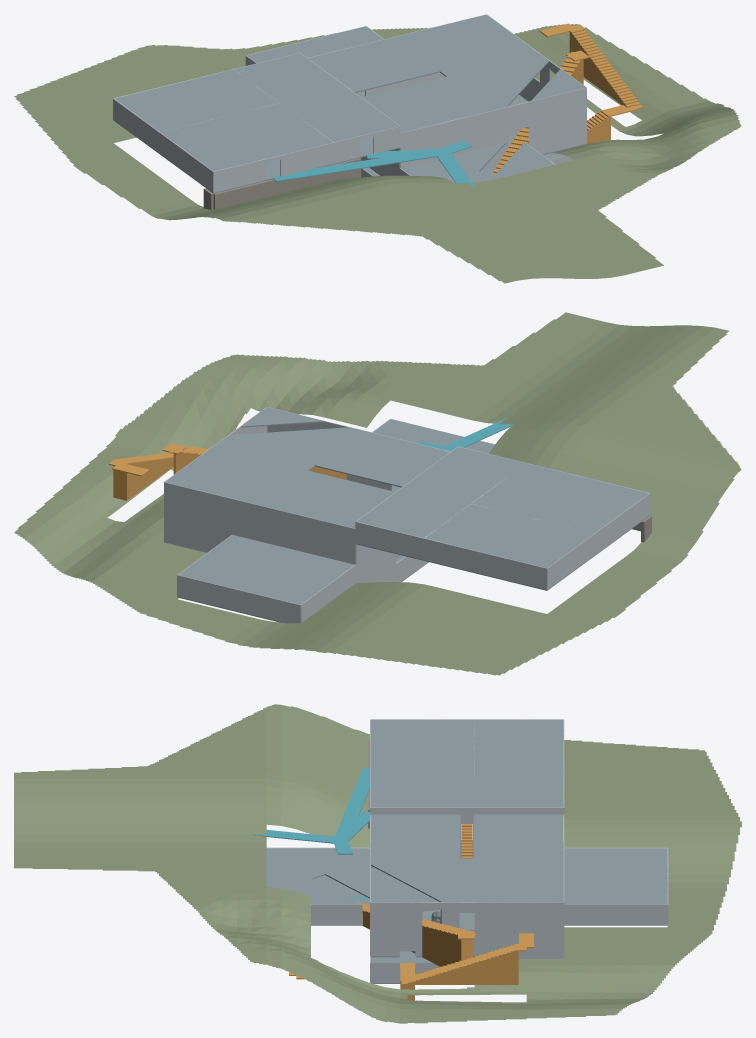
Rendered from supported-arrival.glb.
The picture shows the model from 3 angles, top to bottom: view 1: azimuth 30°, elevation 25°; view 2: azimuth 150°, elevation 25°; view 3: azimuth 270°, elevation 25°; orthographic projection. The views are drawn at different scales.
Visible parts, largest first — view 1: Saved editor occupied-room terrain WLD-09, Ceiling cap west-stair, Ceiling cap control, Opened stair shell Wall turbine S.001, Ceiling cap office, Restored ceiling-cap turbine 0 region0, Ceiling cap turbine.006, Ceiling cap turbine.003, Ceiling cap turbine, Ceiling cap plant, Ceiling cap turbine.004, Flat route shell Bayed shell Wall turbine S (+15 smaller); view 2: Saved editor occupied-room terrain WLD-09, Ceiling cap west-stair, Ceiling cap control, Ceiling cap plant, Flat route shell Wall turbine N.001, Ceiling cap office, Restored ceiling-cap turbine 0 region0, Ceiling cap turbine.006, Wall office N, Wall plant N, Ceiling cap turbine, Ceiling cap turbine.003 (+12 smaller); view 3: Saved editor occupied-room terrain WLD-09, Opened stair shell Wall turbine E, Ceiling cap west-stair, Ceiling cap control, Ceiling cap plant, Ceiling cap office, Restored ceiling-cap turbine 0 region0, Ceiling cap turbine.006, Ceiling cap turbine, Ceiling cap turbine.003, Wall plant E, Ceiling cap turbine.004 (+13 smaller).
Part boxes in pixels (x1,y1,x2,y2): Saved editor occupied-room terrain WLD-09: (14,24,741,283); Ceiling cap west-stair: (234,53,399,142); Ceiling cap control: (160,103,332,171); Opened stair shell Wall turbine S.001: (465,88,586,168); Ceiling cap office: (115,69,278,131); Restored ceiling-cap turbine 0 region0: (409,54,548,119); Ceiling cap turbine.006: (394,14,531,70); Ceiling cap turbine.003: (362,86,454,132); Ceiling cap turbine: (308,46,400,91); Ceiling cap plant: (246,26,382,63); Ceiling cap turbine.004: (355,37,438,79); Flat route shell Bayed shell Wall turbine S: (400,119,455,168); Saved editor occupied-room terrain WLD-09: (14,312,741,675); Ceiling cap west-stair: (356,447,526,537); Ceiling cap control: (472,463,648,533); Ceiling cap plant: (178,535,354,604); Flat route shell Wall turbine N.001: (164,482,288,550); Ceiling cap office: (425,504,593,567); Restored ceiling-cap turbine 0 region0: (221,427,400,475); Ceiling cap turbine.006: (165,448,306,505); Wall office N: (424,538,547,589); Wall plant N: (177,575,300,623); Ceiling cap turbine: (300,481,394,528); Ceiling cap turbine.003: (355,440,449,485); Saved editor occupied-room terrain WLD-09: (14,704,741,1023); Opened stair shell Wall turbine E: (370,902,563,956); Ceiling cap west-stair: (370,776,563,807); Ceiling cap control: (370,719,474,776); Ceiling cap plant: (564,848,667,904); Ceiling cap office: (474,719,563,776); Restored ceiling-cap turbine 0 region0: (370,840,460,902); Ceiling cap turbine.006: (475,858,563,902); Ceiling cap turbine: (475,814,563,840); Ceiling cap turbine.003: (370,814,458,840); Wall plant E: (564,904,667,924); Ceiling cap turbine.004: (475,840,563,858).
Size of the model in its own units: 85 by 13.16 by 98.
33 materials, 17 textured.
